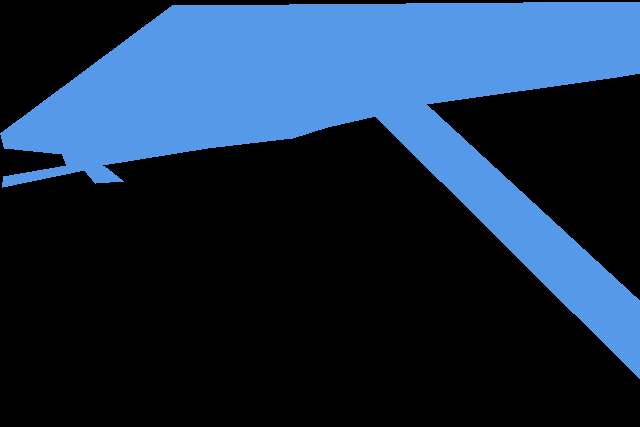Airplane: (0, 1, 640, 380)
